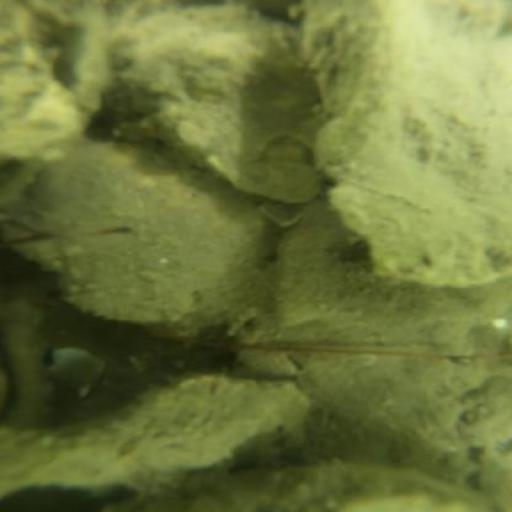Oyster-Closed: (310, 2, 512, 291), (9, 140, 273, 332), (98, 6, 317, 205), (16, 377, 312, 489)
